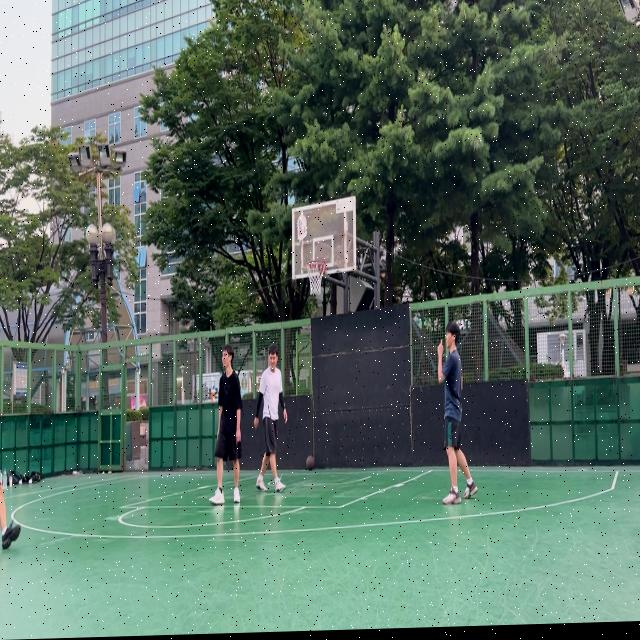basketball: (306, 454, 315, 471)
hoop: (306, 259, 326, 296)
